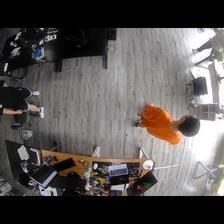normal: (136, 101, 201, 145), (1, 80, 44, 118)
